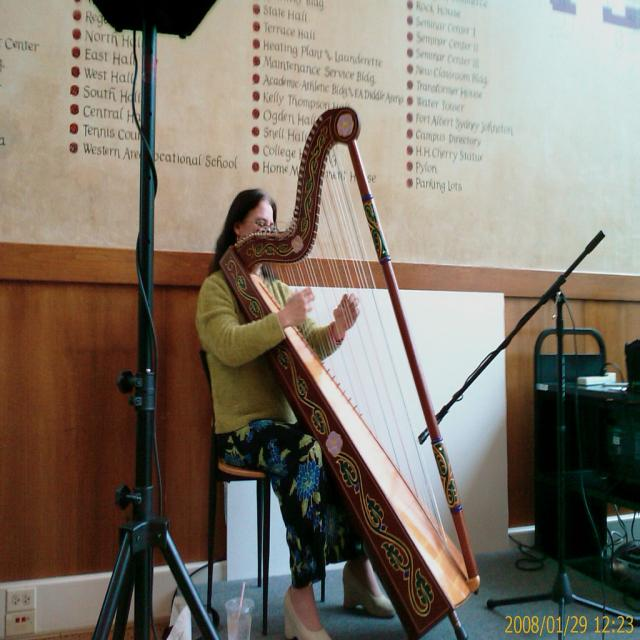harp: (217, 103, 483, 640)
